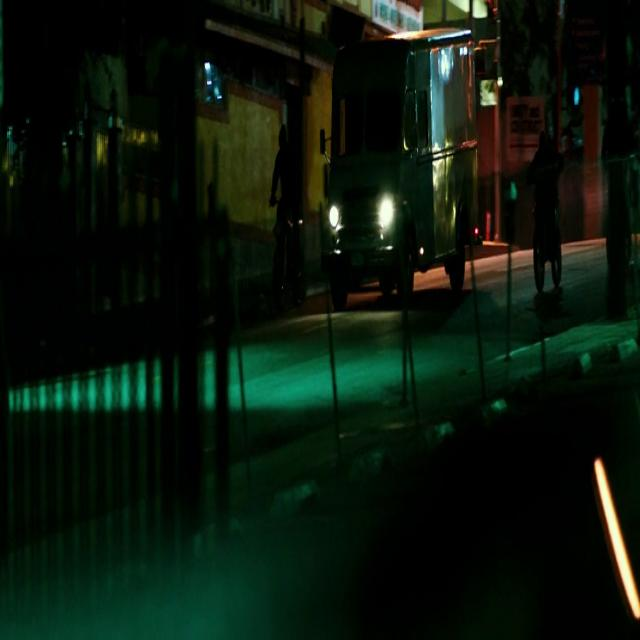Motorbike: (264, 224, 320, 314), (523, 227, 572, 294)
People: (585, 64, 640, 369), (267, 91, 308, 247), (530, 129, 558, 235)
car: (326, 39, 489, 328)
